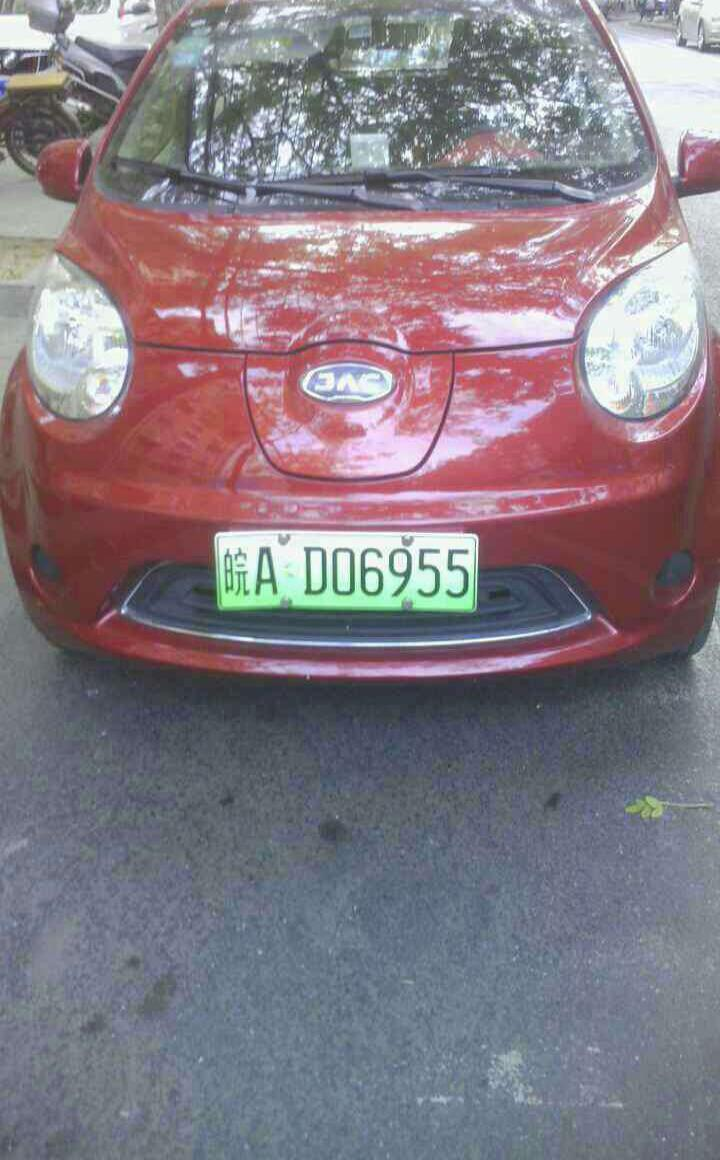car_id: (215, 538, 479, 613)
